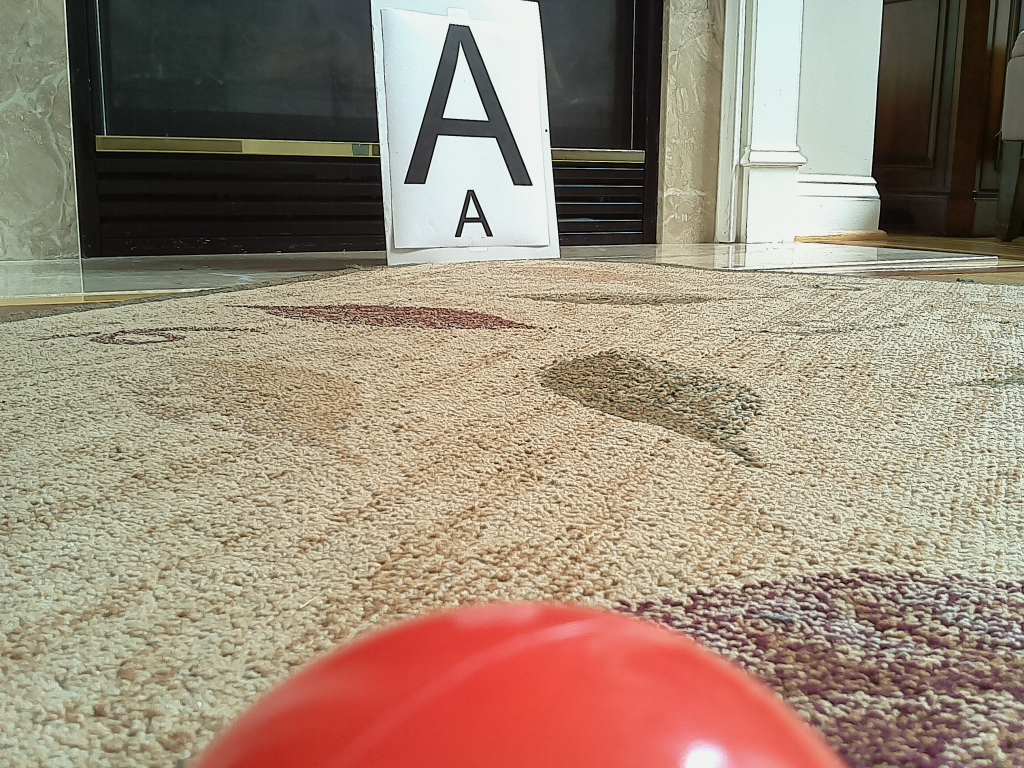letter: (402, 23, 532, 185)
